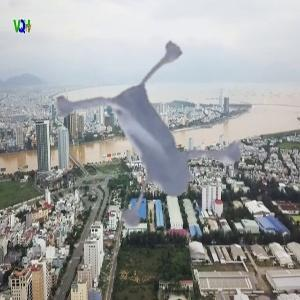drone: (2, 3, 287, 288)
